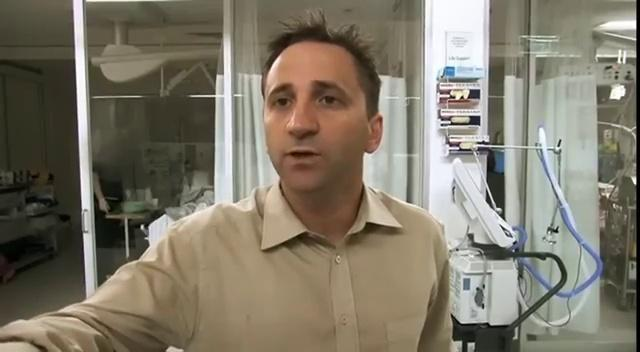others: (0, 10, 459, 351)
